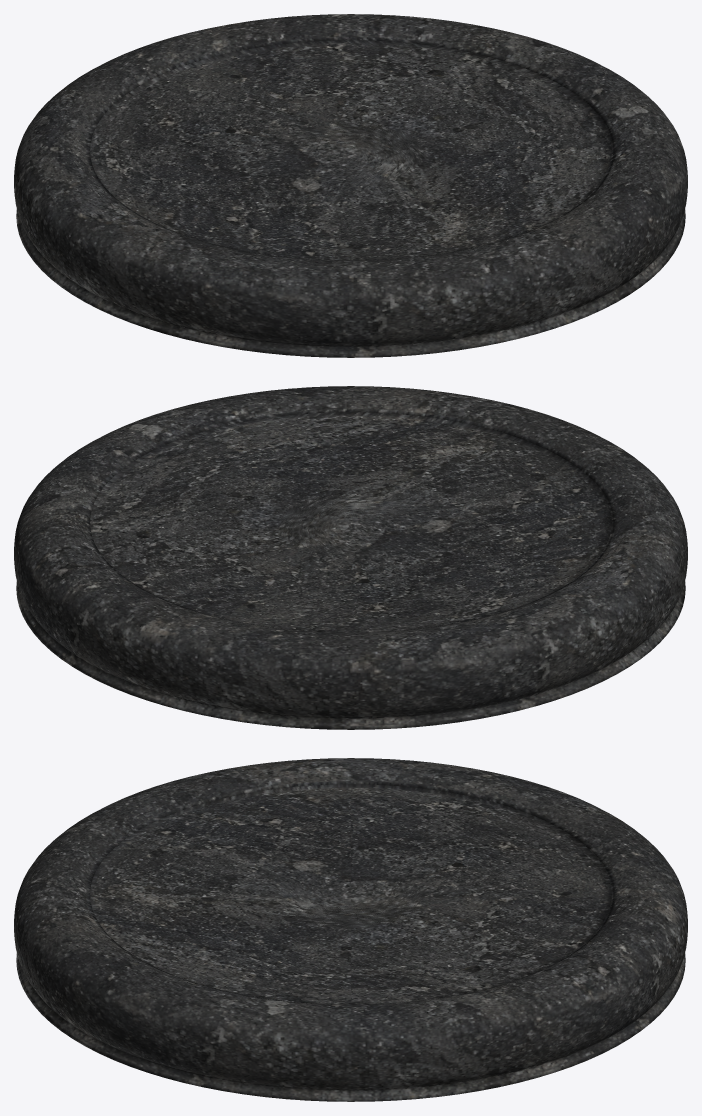
Rendered from yinsh-marker-black.glb.
3 renders of one model, top to bottom at view 1: azimuth 30°, elevation 25°; view 2: azimuth 150°, elevation 25°; view 3: azimuth 270°, elevation 25°, orthographic.
Parts seen in each view (by area): view 1: yinsh-marker-black; view 2: yinsh-marker-black; view 3: yinsh-marker-black.
Part boxes in pixels (x1=…): yinsh-marker-black: x1=14, y1=14, x2=687, y2=357; yinsh-marker-black: x1=14, y1=386, x2=687, y2=729; yinsh-marker-black: x1=14, y1=758, x2=687, y2=1101.
Bounding box in the file's own units: 0.0207 × 0.00256 × 0.0207.
1 material, 1 textured.
